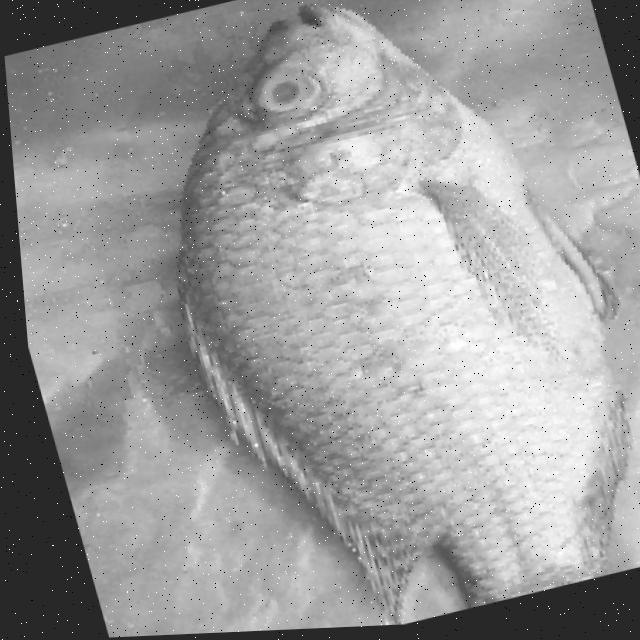Non-Fresh: (176, 72, 610, 569), (230, 47, 343, 155)
